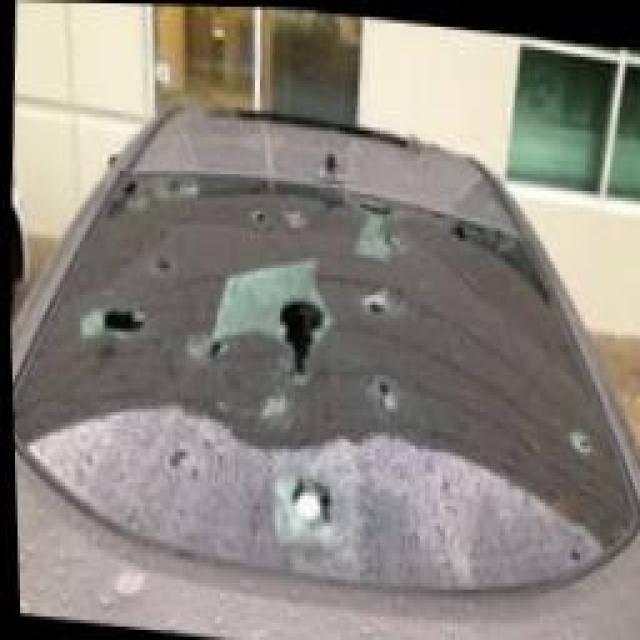Windshield: (10, 162, 640, 585)
